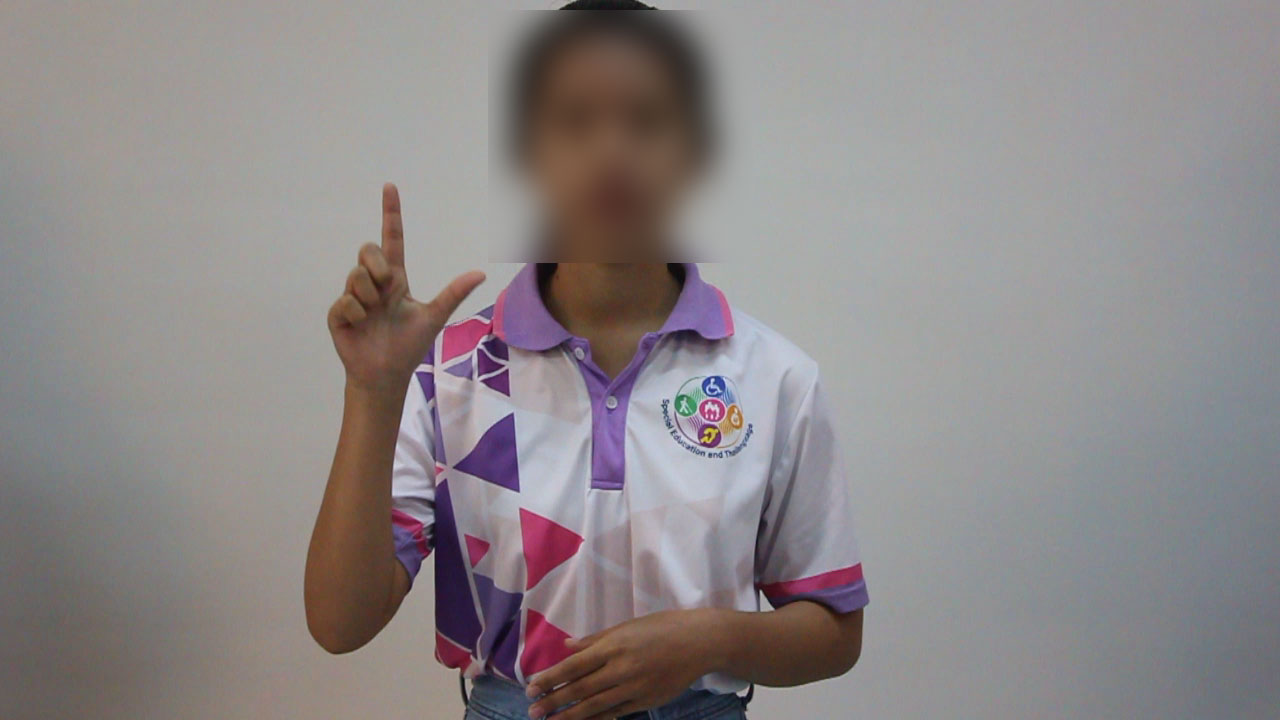lor: (253, 163, 519, 378)
